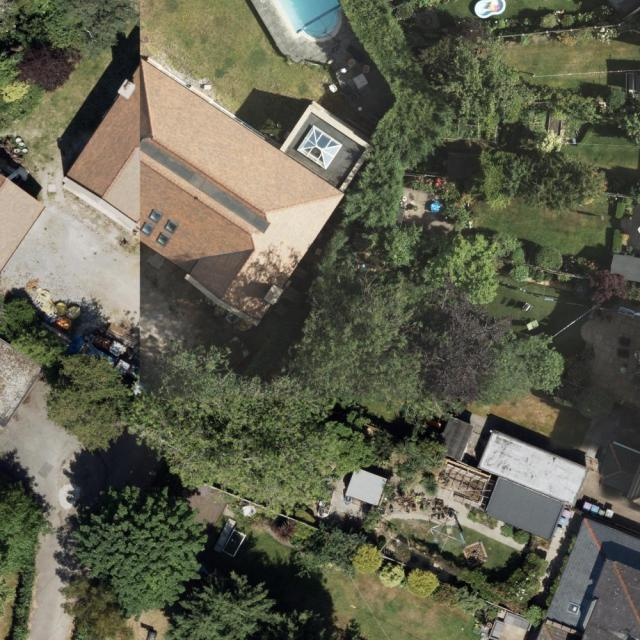roof: (58, 61, 376, 329), (480, 430, 591, 546), (538, 515, 640, 640), (0, 174, 44, 278), (0, 337, 45, 427)
skylight: (296, 125, 345, 173), (154, 231, 172, 247), (566, 600, 583, 616), (139, 222, 155, 238), (163, 218, 180, 233), (150, 208, 164, 224)
